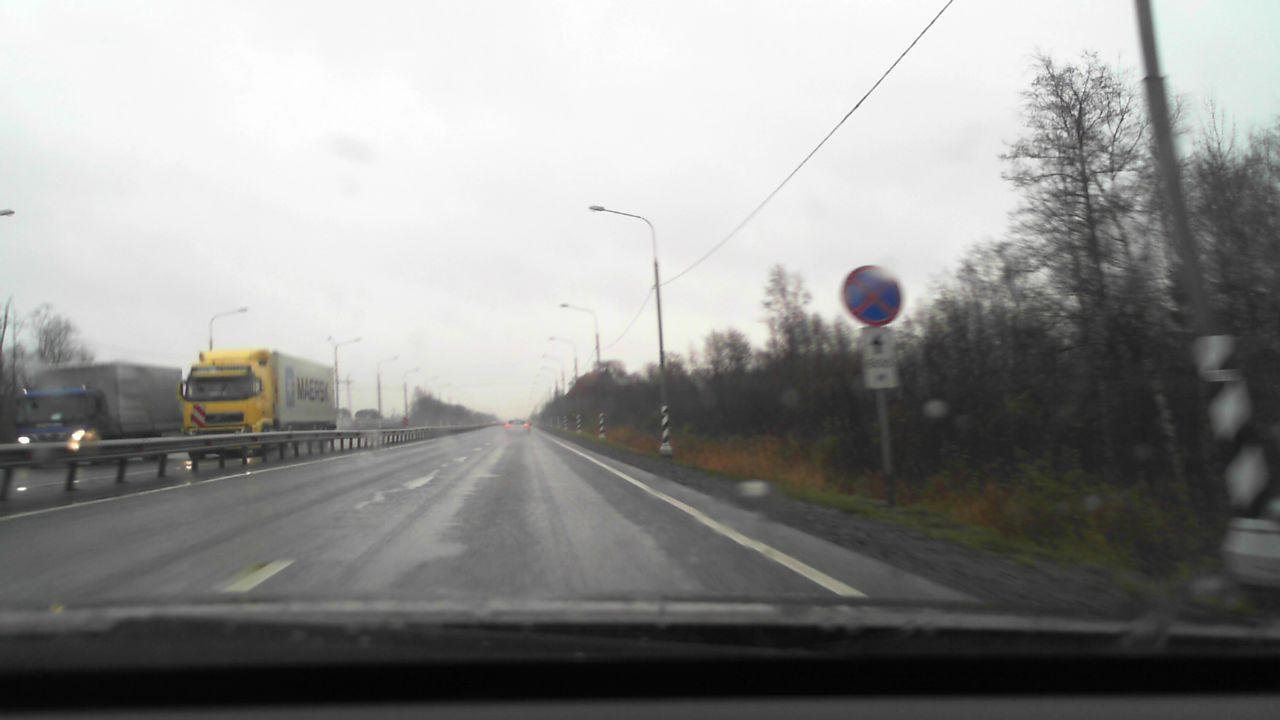3_27: (840, 260, 906, 324)
8_2_2: (863, 329, 899, 389)
